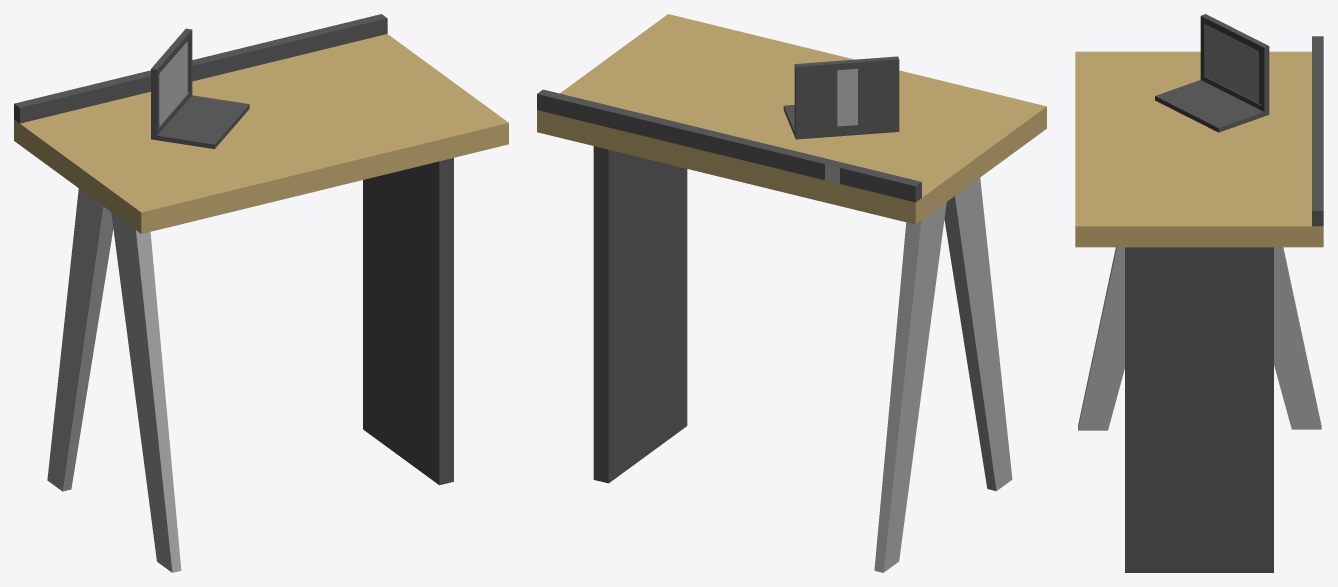
File: bureau2.fbx
3 views of the same model, side by side, from view 1: azimuth 30°, elevation 25°; view 2: azimuth 150°, elevation 25°; view 3: azimuth 270°, elevation 25° (orthographic). The views are drawn at different scales.
Parts seen in each view (by area): view 1: bureau, laptop; view 2: bureau, laptop; view 3: bureau, laptop.
Boxes of the visible parts, x1,y1,x2,y2 form: bureau: (14, 14, 508, 572); laptop: (151, 28, 249, 148); bureau: (537, 14, 1046, 572); laptop: (783, 56, 899, 139); bureau: (1075, 36, 1323, 572); laptop: (1155, 14, 1269, 132).
Bounding box in the file's own units: 125 × 145 × 75.
